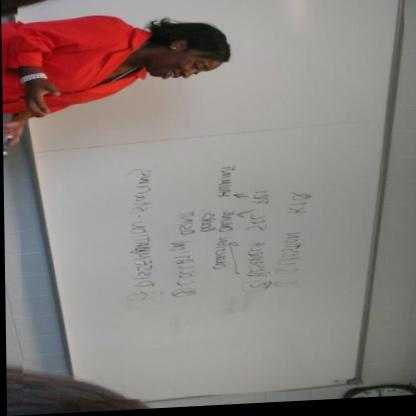Handwritten text: (110, 163, 157, 294), (271, 190, 316, 287), (208, 159, 236, 278), (243, 188, 272, 283), (168, 206, 197, 291)
Lecturer: (2, 9, 237, 121)
Whiteboard: (0, 0, 405, 411)
